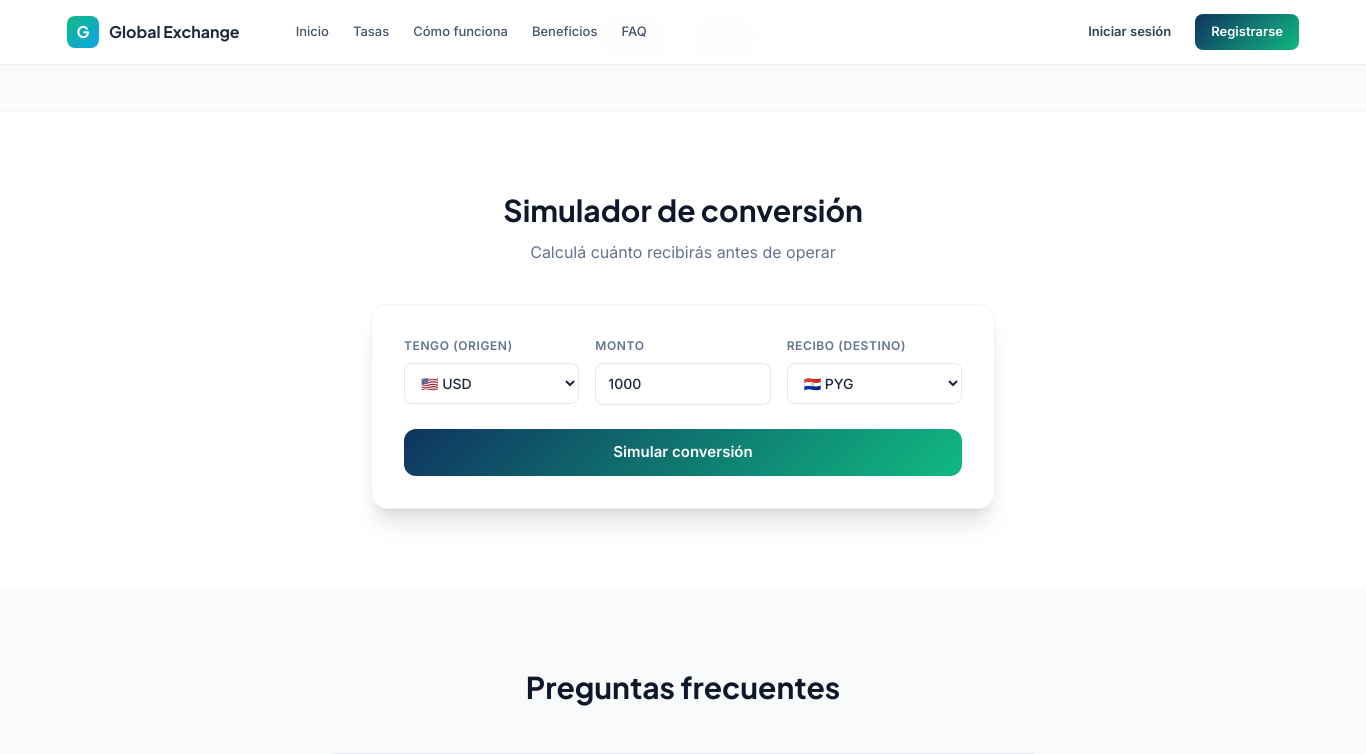
Landing (página pública) › calcula la conversión en el simulador con el monto ingresado
(page scrolled)
Replace the text in the number field showing "1000" with "2000" at (683, 384), box [595,363,771,405]
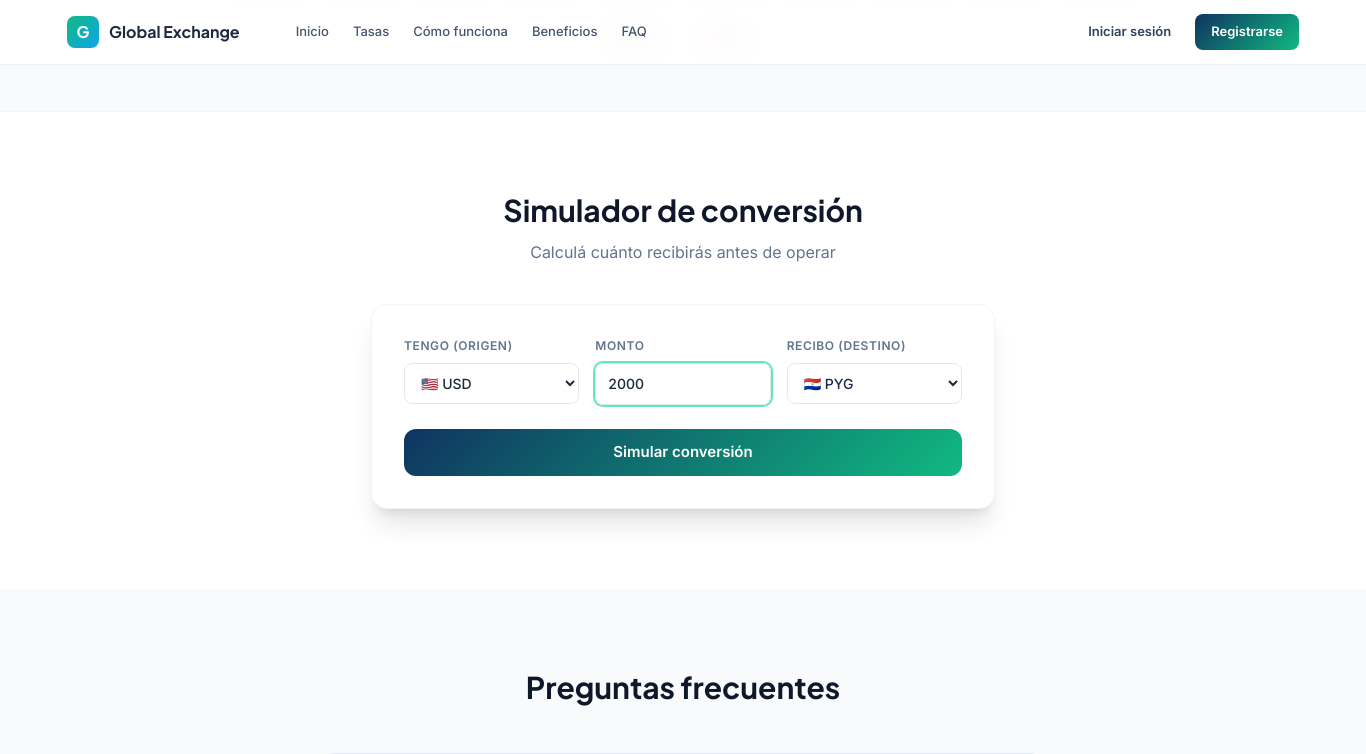
Click the button "Simular conversión" at (683, 453), box [404,429,962,476]
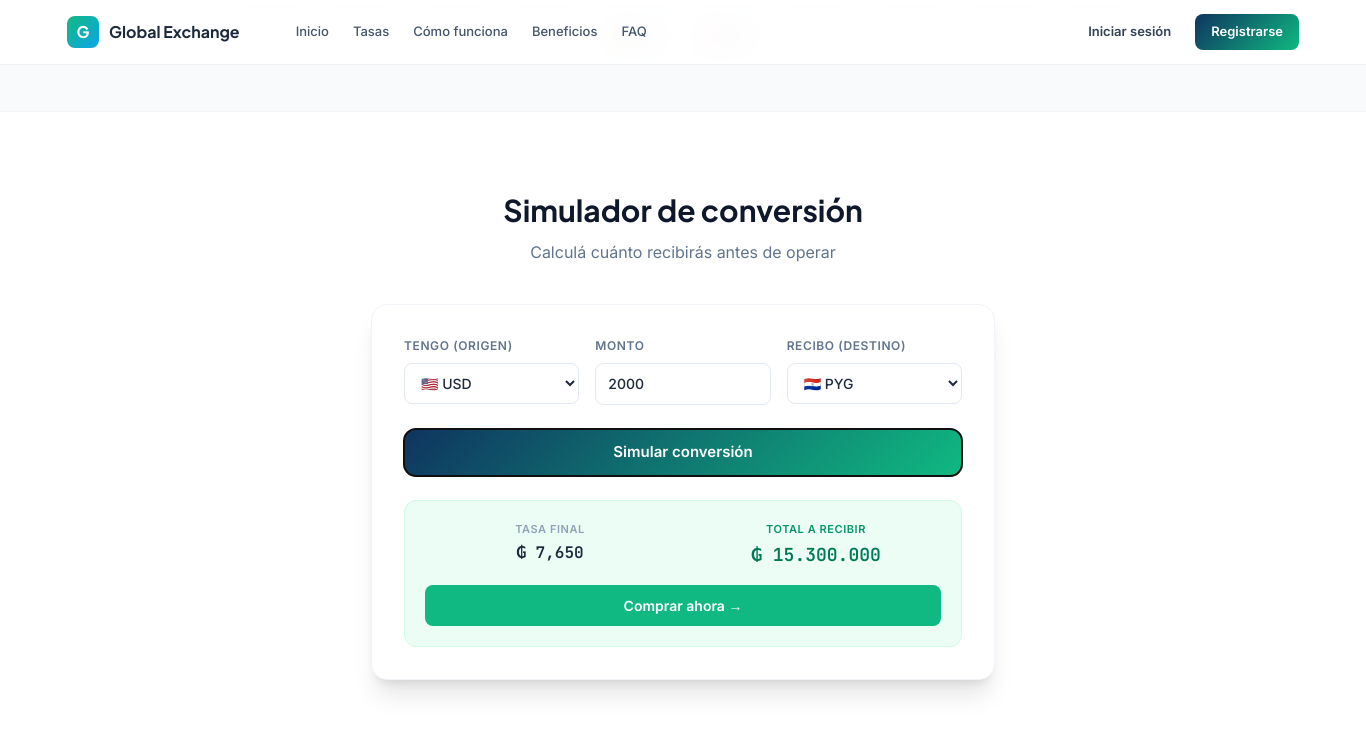
Check: the text "Total a recibir" is shown, box [766,522,866,536]
Check: the text "₲ 15.300.000" is shown, box [751,543,881,566]
Check: the button "Comprar ahora →" is shown, box [425,585,941,626]
